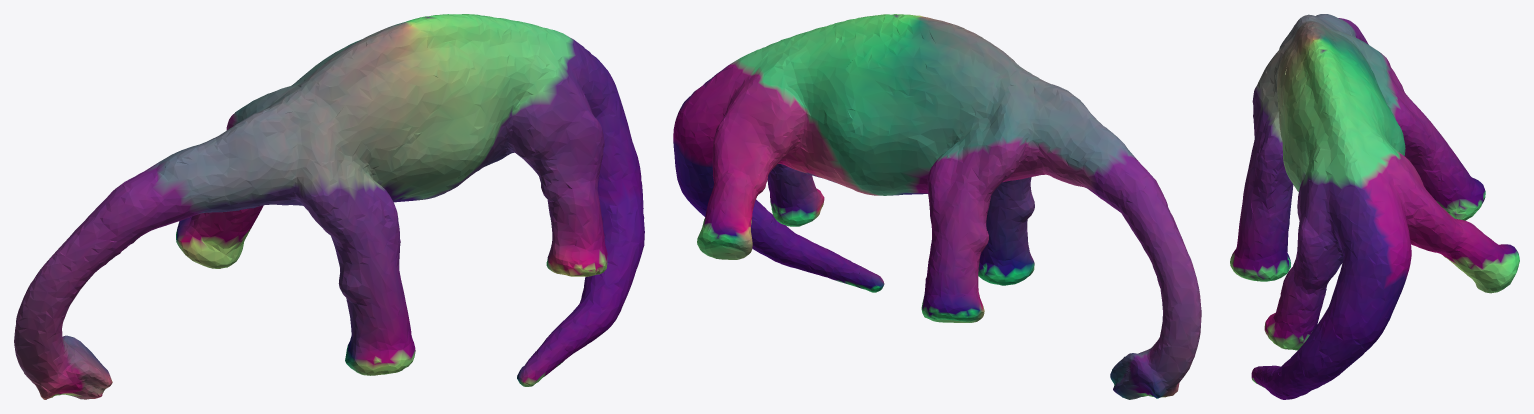
File: dinosaur-3.off.obj
3 renders of one model, left to right at view 1: azimuth 30°, elevation 25°; view 2: azimuth 150°, elevation 25°; view 3: azimuth 270°, elevation 25°, orthographic. The views are drawn at different scales.
Bounding box in the file's own units: 1.52 × 0.862 × 0.7347.
